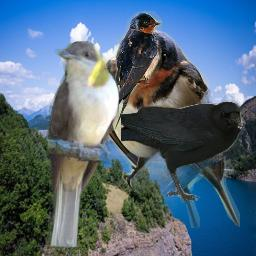Crow: (121, 101, 243, 203)
Cuckoo: (44, 41, 119, 247)
Swallow: (89, 29, 240, 228), (106, 11, 162, 131)
